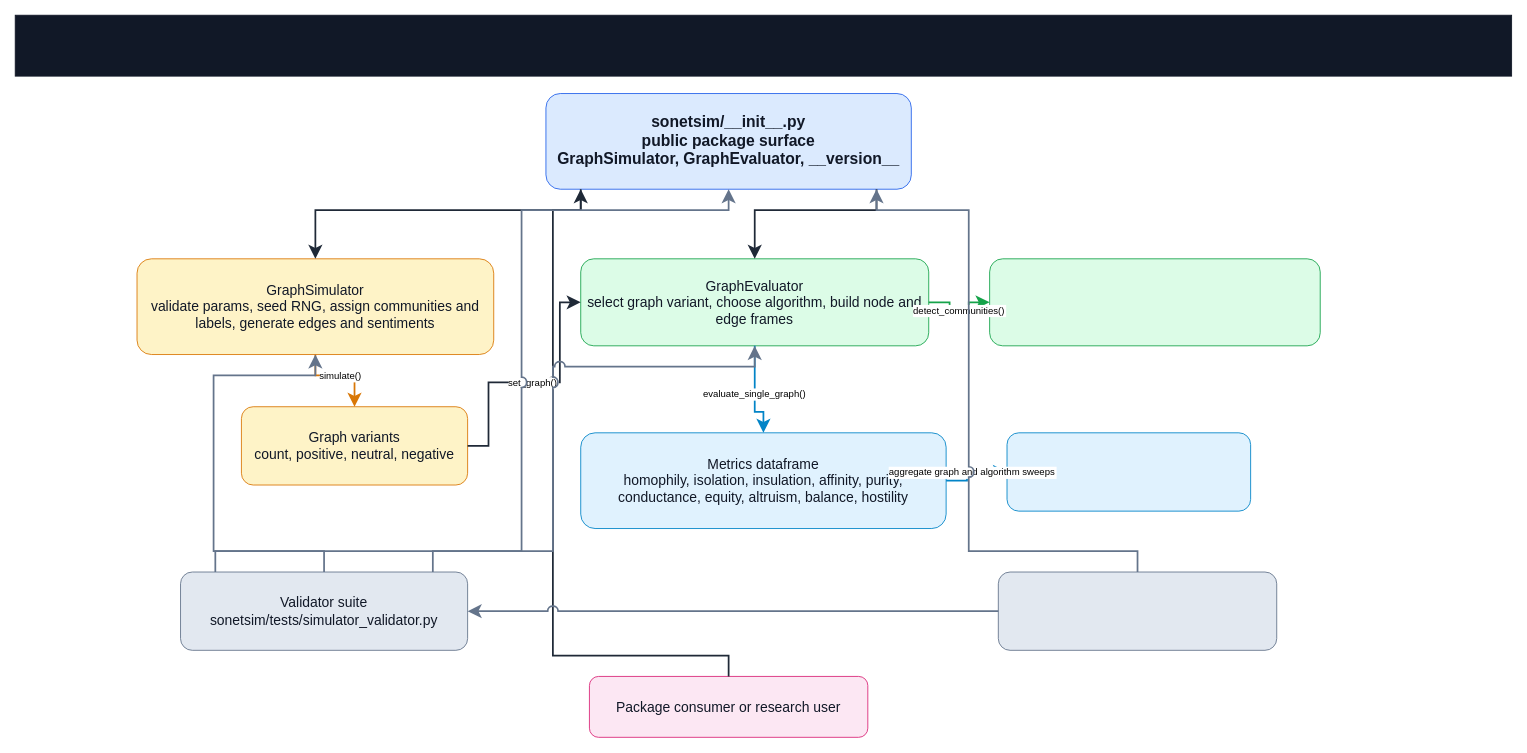
This 1527x753 diagram has some shape labels left out. The shapes that lost their labels are listed below. From the top down, each one's centre as x and y in pixels, then its label:
[763,45]: sonetsim Repository Architecture
[1154,302]: Community detection backends networkx louvain and cdlib leiden, eva, infomap
[1128,471]: Experiment loop evaluate() and evaluate_algorithms()
[1137,610]: Packaging and release pyproject.toml, requirements.txt, GitHub Actions
